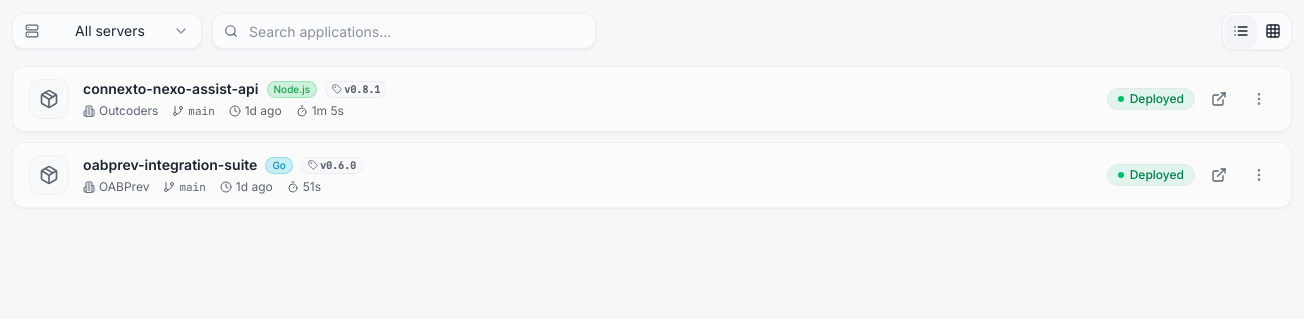
Test case: AppList › renders empty state when search returns no results
The width and height of the screenshot is (1304, 319).
Type "non-existent-app" into the search field with placeholder "Search applications..." at (404, 31), box [212,13,596,49]
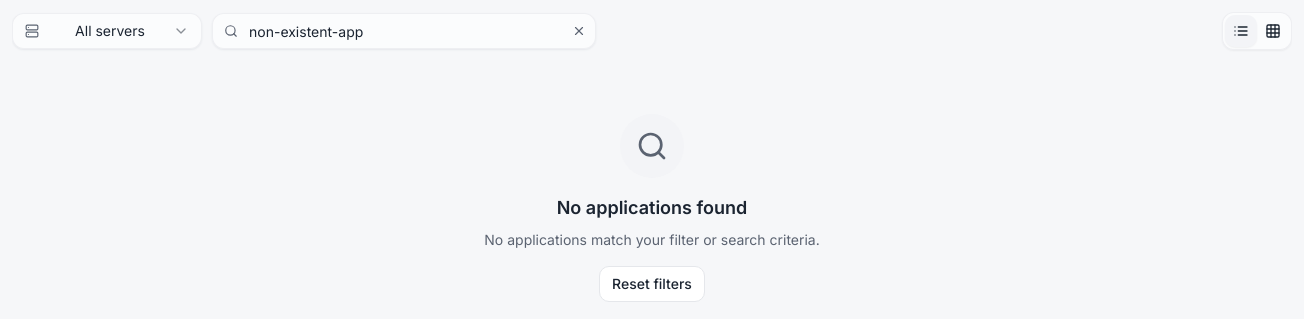
Expected: the heading "No applications found" is shown, [557,194,747,222]
